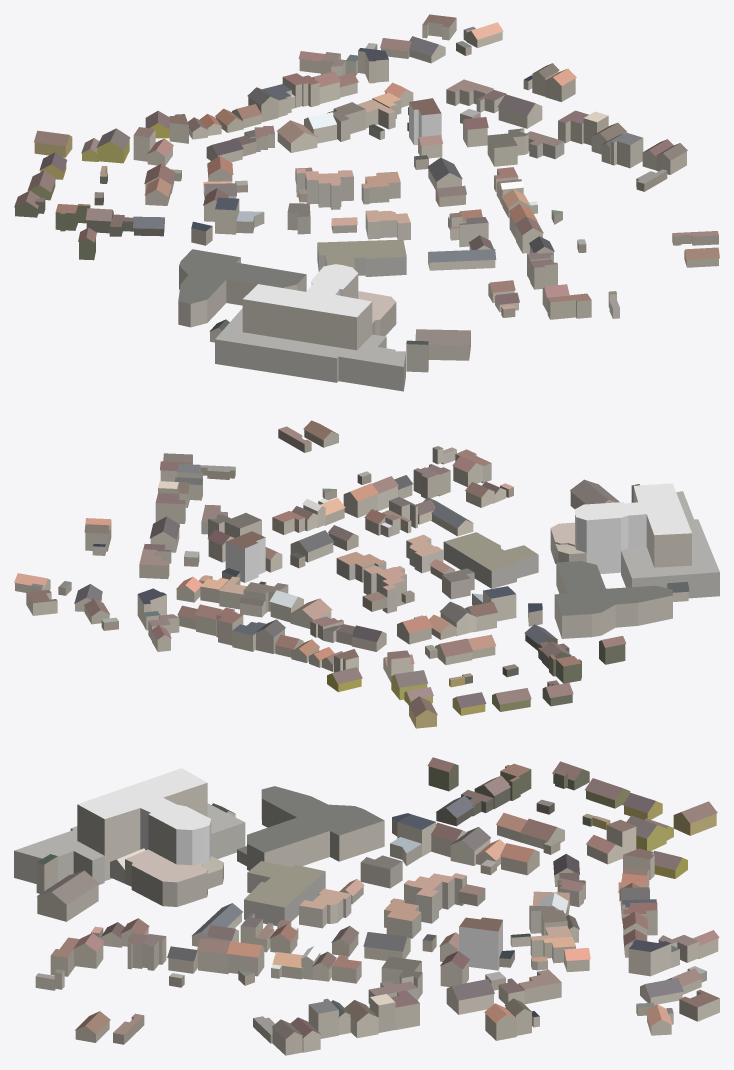
3 views of the same model, one above another, from view 1: azimuth 30°, elevation 25°; view 2: azimuth 150°, elevation 25°; view 3: azimuth 270°, elevation 25° (orthographic). The views are drawn at different scales.
Parts seen in each view (by area): view 1: tuile; view 2: tuile; view 3: tuile.
Boxes of the visible parts, box(x1,y1,x2,y2) form: tuile: box(14, 14, 719, 391); tuile: box(14, 420, 719, 728); tuile: box(14, 757, 719, 1055).
Bounding box in the file's own units: 262 × 33.29 × 266.
